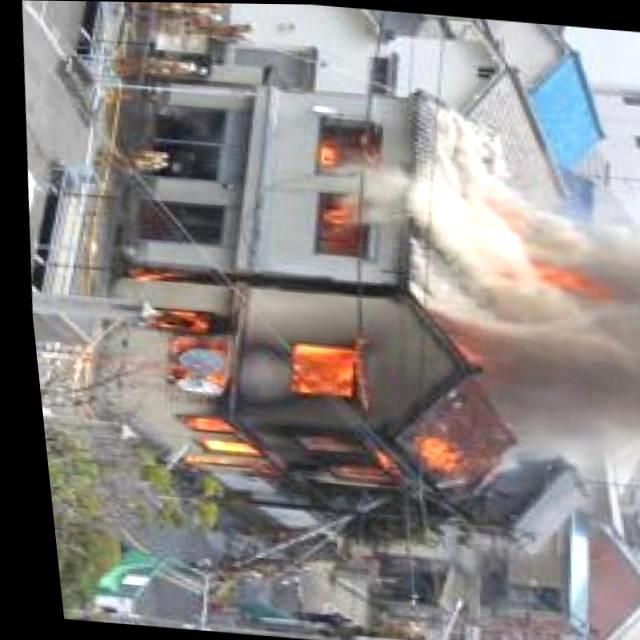fire: (133, 296, 469, 496), (304, 126, 358, 246)
